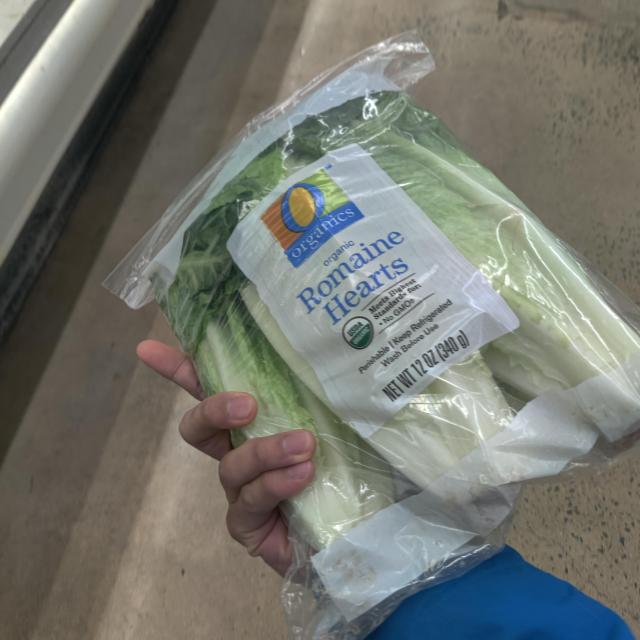Lettuce: (137, 66, 640, 638)
